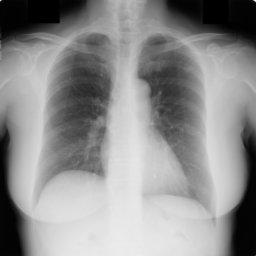left lobe: (139, 34, 212, 208)
right lobe: (35, 34, 114, 196)
